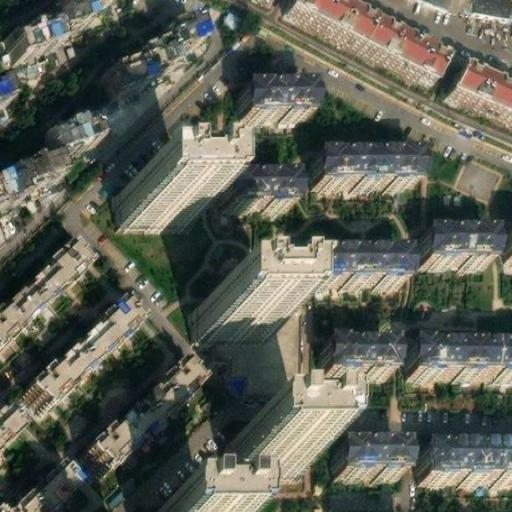building: (281, 0, 438, 87), (16, 299, 134, 412), (80, 360, 198, 473), (0, 241, 85, 343), (4, 0, 111, 58), (110, 6, 206, 66), (41, 77, 138, 136), (1, 459, 77, 512), (446, 60, 512, 118), (405, 346, 512, 380), (417, 445, 512, 482), (0, 153, 67, 204), (310, 155, 412, 187), (305, 255, 403, 285), (197, 298, 273, 336), (222, 434, 299, 471), (115, 184, 189, 221), (239, 83, 311, 117), (334, 441, 401, 477), (318, 345, 388, 379), (219, 176, 290, 209), (418, 230, 488, 263), (0, 402, 22, 442), (496, 230, 512, 275)
